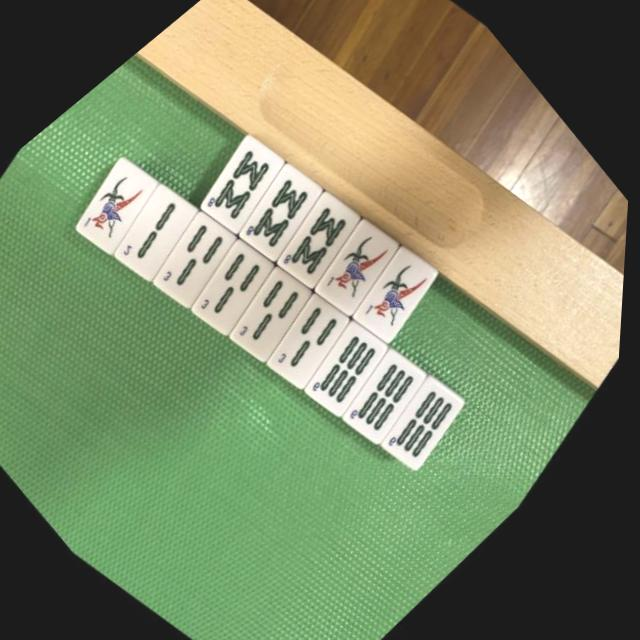sb1: (60, 152, 182, 267), (341, 245, 462, 358), (302, 218, 421, 330)
sb2: (100, 180, 220, 294)
sb3: (177, 235, 299, 349), (138, 207, 259, 321), (255, 289, 374, 402), (217, 264, 335, 375)
sb6: (292, 318, 412, 431), (332, 348, 449, 458), (371, 375, 486, 483)
sb8: (223, 159, 348, 276), (185, 132, 308, 248), (263, 189, 385, 304)
